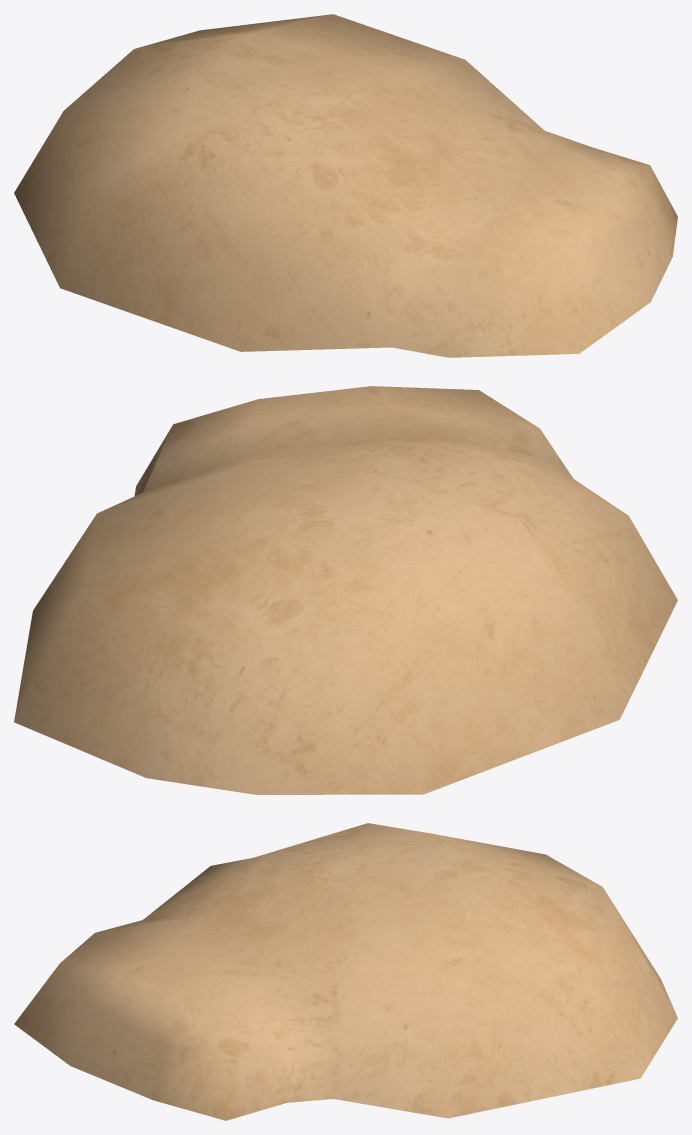
File: pm-sand-mount.glb
3 views of the same model, one above another, from view 1: azimuth 30°, elevation 25°; view 2: azimuth 150°, elevation 25°; view 3: azimuth 270°, elevation 25° (orthographic). The views are drawn at different scales.
Visible parts, largest first — view 1: SandMount_Art; view 2: SandMount_Art; view 3: SandMount_Art.
Part boxes in pixels (x1=…): SandMount_Art: x1=14, y1=14, x2=677, y2=357; SandMount_Art: x1=14, y1=386, x2=677, y2=794; SandMount_Art: x1=14, y1=823, x2=677, y2=1120.
Bounding box in the file's own units: 5.12 × 1.45 × 6.22.
Materials: 1 (1 with a texture image).
